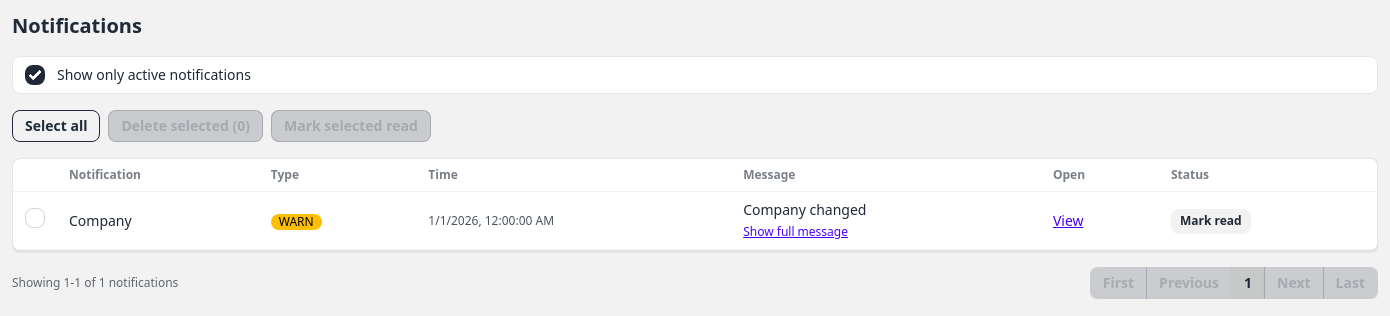
Scenario: NotificationsPage › marks notification as read optimistically without blocking on reload
Expected: the text "Company changed" is shown, x1=743 y1=200 x2=866 y2=219
Step 1. Click the button "Mark read" → (1211, 220), box x1=1171 y1=208 x2=1251 y2=232
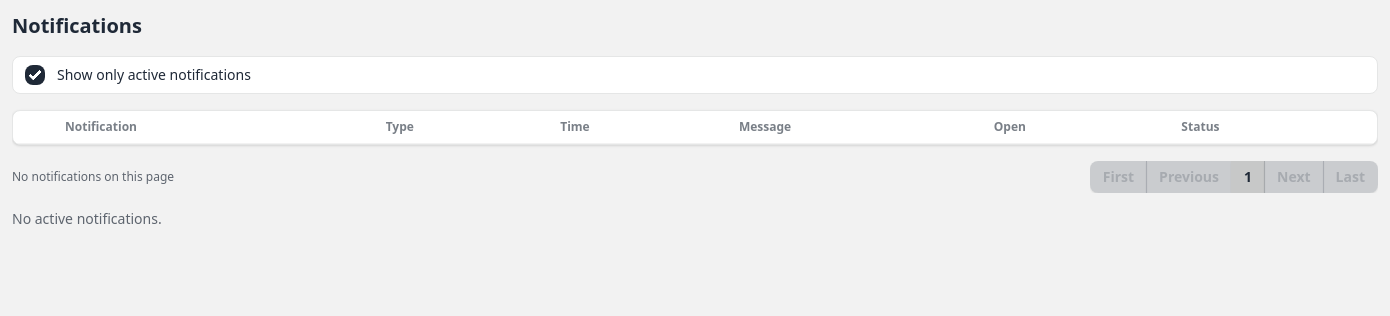
Expected: the text "Company changed" is gone
Expected: the text "No notifications on this page" is shown, x1=12 y1=169 x2=174 y2=185
Expected: the text "No active notifications." is shown, x1=12 y1=209 x2=162 y2=228
